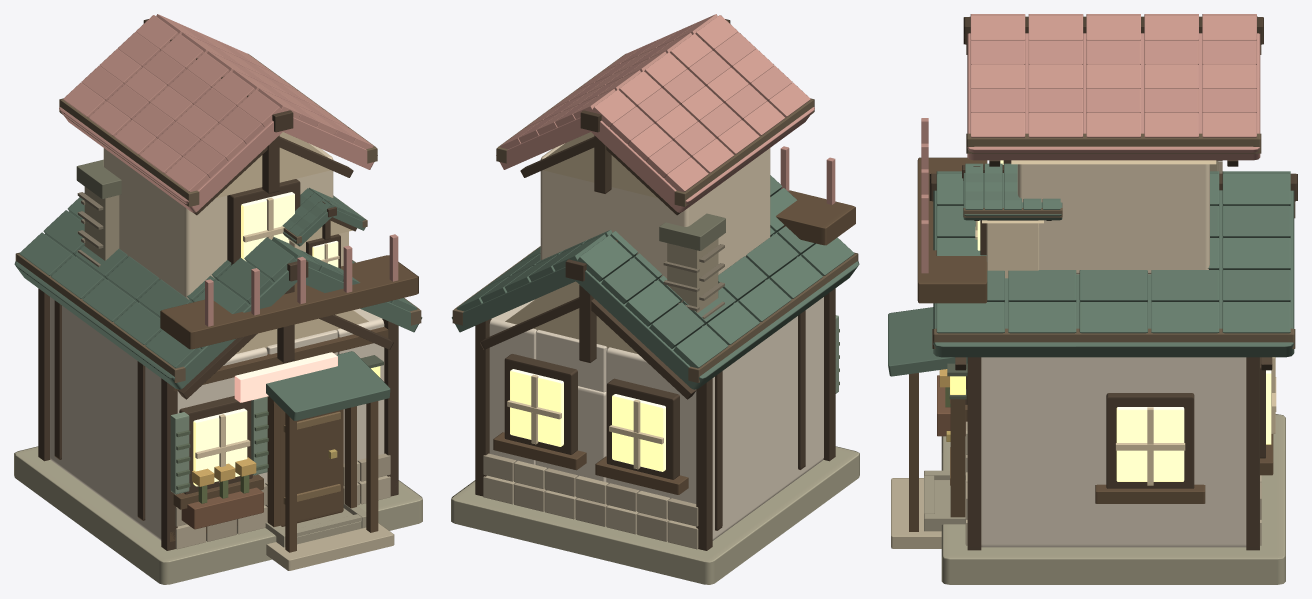
The model's file is workshop-2-1.glb.
3 views of the same model, side by side, from view 1: azimuth 30°, elevation 25°; view 2: azimuth 150°, elevation 25°; view 3: azimuth 270°, elevation 25° (orthographic). The views are drawn at different scales.
Parts seen in each view (by area): view 1: workshop-1-2, door-hinge; view 2: workshop-1-2; view 3: workshop-1-2.
Boxes of the visible parts, x1,y1,x2,y2 form: workshop-1-2: (14,14,422,584); door-hinge: (280,407,343,526); workshop-1-2: (451,14,859,584); workshop-1-2: (888,14,1297,584).
Bounding box in the file's own units: 1.88 × 3 × 2.24.
